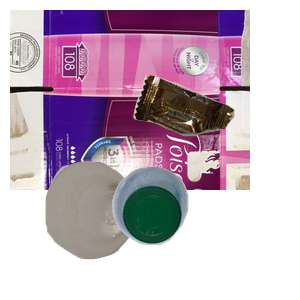cardboard: (10, 10, 250, 190)
glass: (43, 159, 187, 300)
plastic: (110, 164, 300, 300)
trash: (131, 73, 300, 202)
